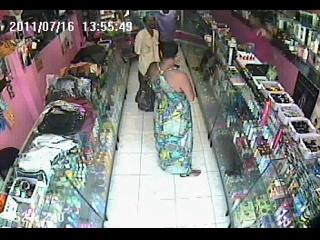Normal: (144, 42, 202, 177), (134, 14, 162, 88), (135, 80, 155, 112)
